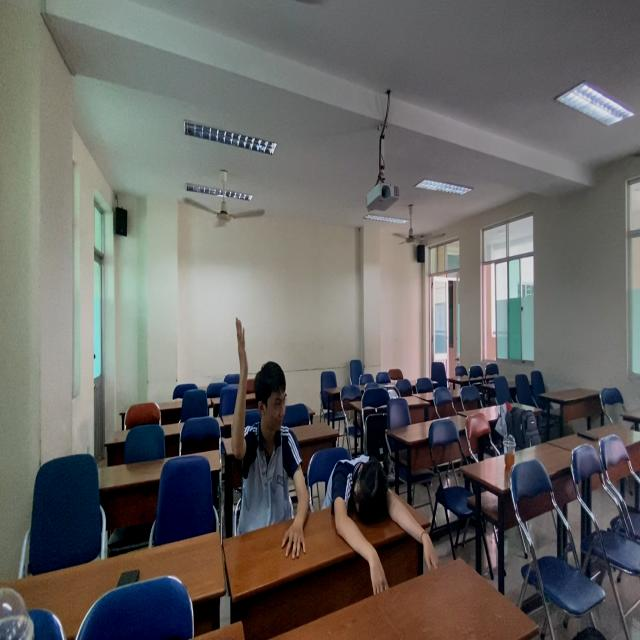raise_hand: (228, 308, 297, 519)
sleep: (325, 439, 404, 552)
